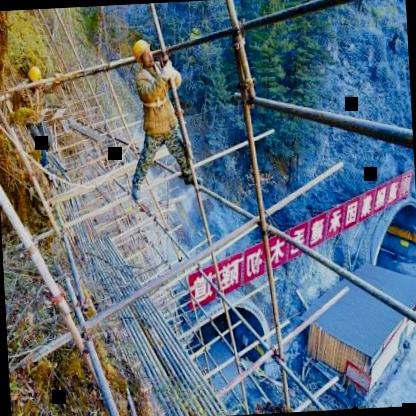helmet: (130, 37, 156, 71), (26, 65, 43, 93)
